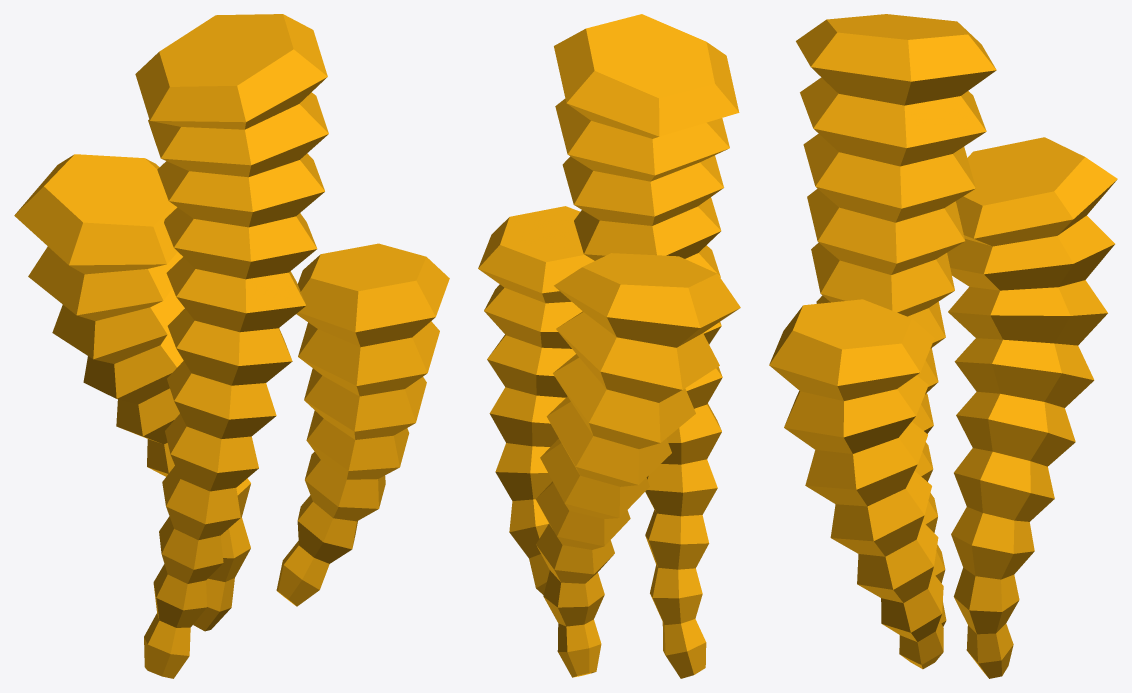
Rendered from Coral_20.fbx.
3 renders of one model, left to right at view 1: azimuth 30°, elevation 25°; view 2: azimuth 150°, elevation 25°; view 3: azimuth 270°, elevation 25°, orthographic. The views are drawn at different scales.
Parts seen in each view (by area): view 1: Coral_20; view 2: Coral_20; view 3: Coral_20.
Boxes of the visible parts, x1,y1,x2,y2 form: Coral_20: (14, 14, 449, 678); Coral_20: (478, 14, 740, 678); Coral_20: (769, 14, 1117, 678).
Bounding box in the file's own units: 44.48 × 83.55 × 40.
